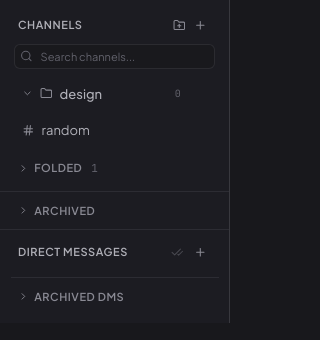
Test case: Sidebar with projects › renders a folded project channel only in the bottom Folded section
The image size is (320, 340).
Step 1. Click the button with test id "sidebar-folded-section-toggle" → (115, 168), box [11,152,219,184]
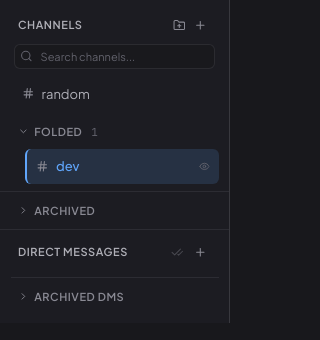
Now the list item with test id "sidebar-folded-channel-item" is shown, box [25,149,219,184]
